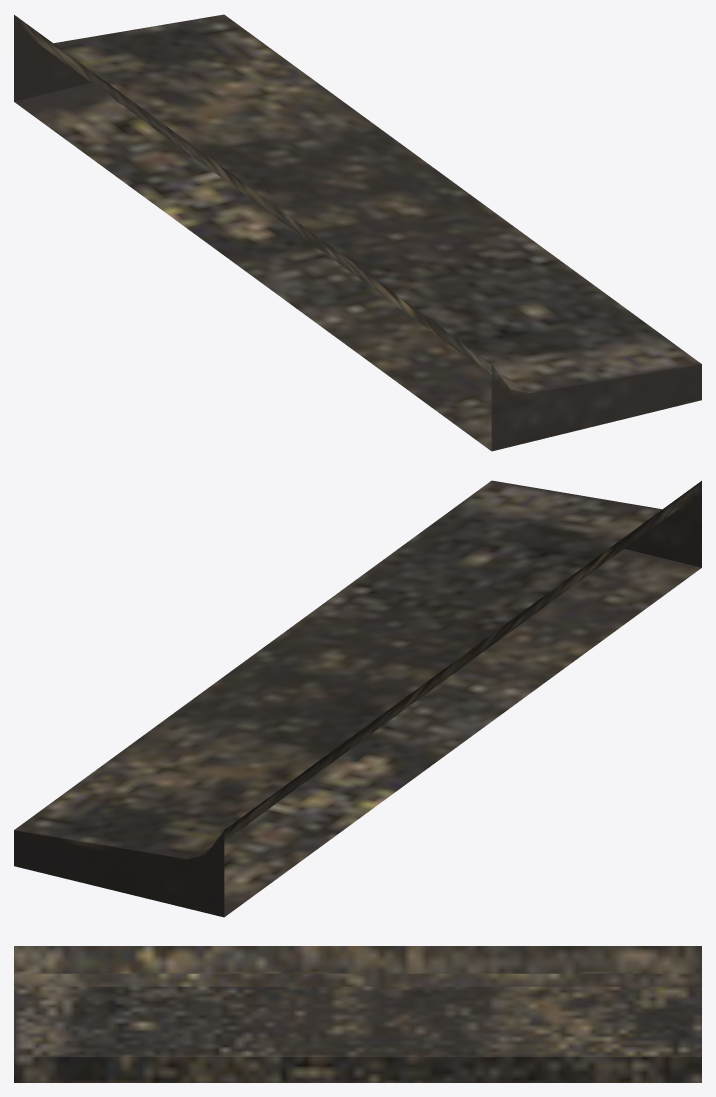
File: WindowTop_M.FBX
3 renders of one model, top to bottom at view 1: azimuth 30°, elevation 25°; view 2: azimuth 150°, elevation 25°; view 3: azimuth 270°, elevation 25°, orthographic. The views are drawn at different scales.
Parts seen in each view (by area): view 1: WindowTop_M; view 2: WindowTop_M; view 3: WindowTop_M.
Part boxes in pixels (box(x1,y1,x2,y2)): WindowTop_M: box(14, 14, 701, 451); WindowTop_M: box(14, 480, 701, 917); WindowTop_M: box(14, 946, 701, 1082).
Size of the model in its own units: 80.93 by 32.1 by 318.
